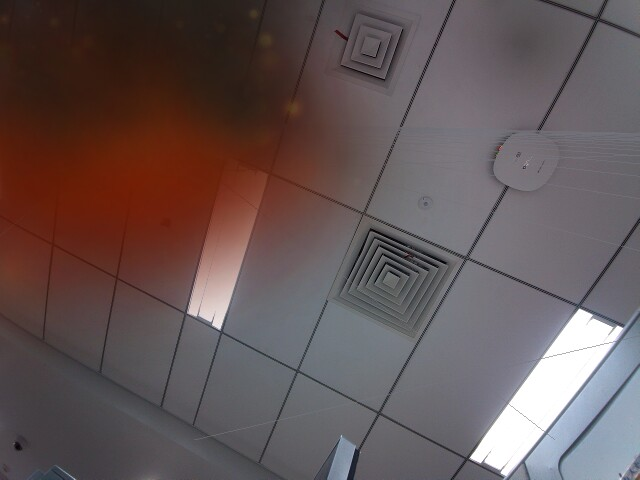fire: (273, 90, 306, 122)
